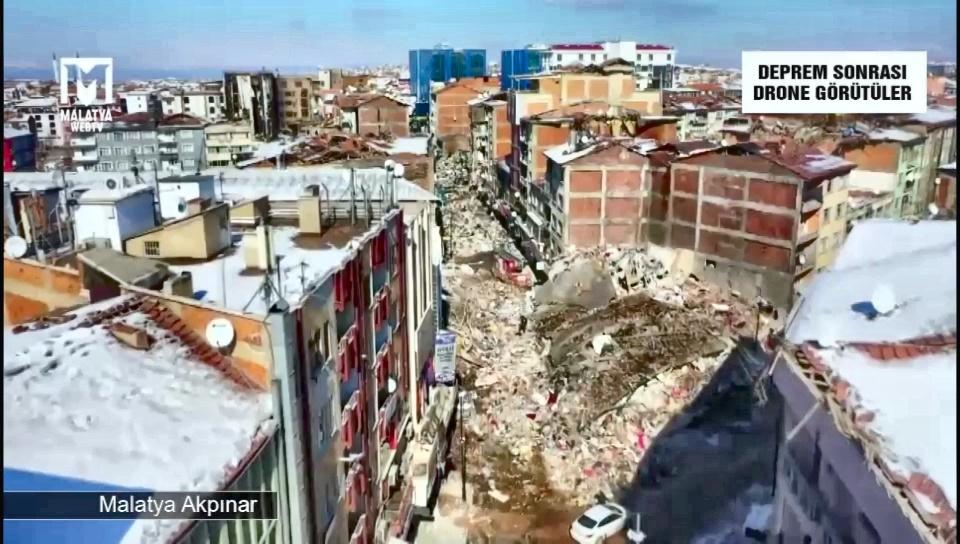kapali: (440, 261, 613, 543), (434, 156, 523, 261)
